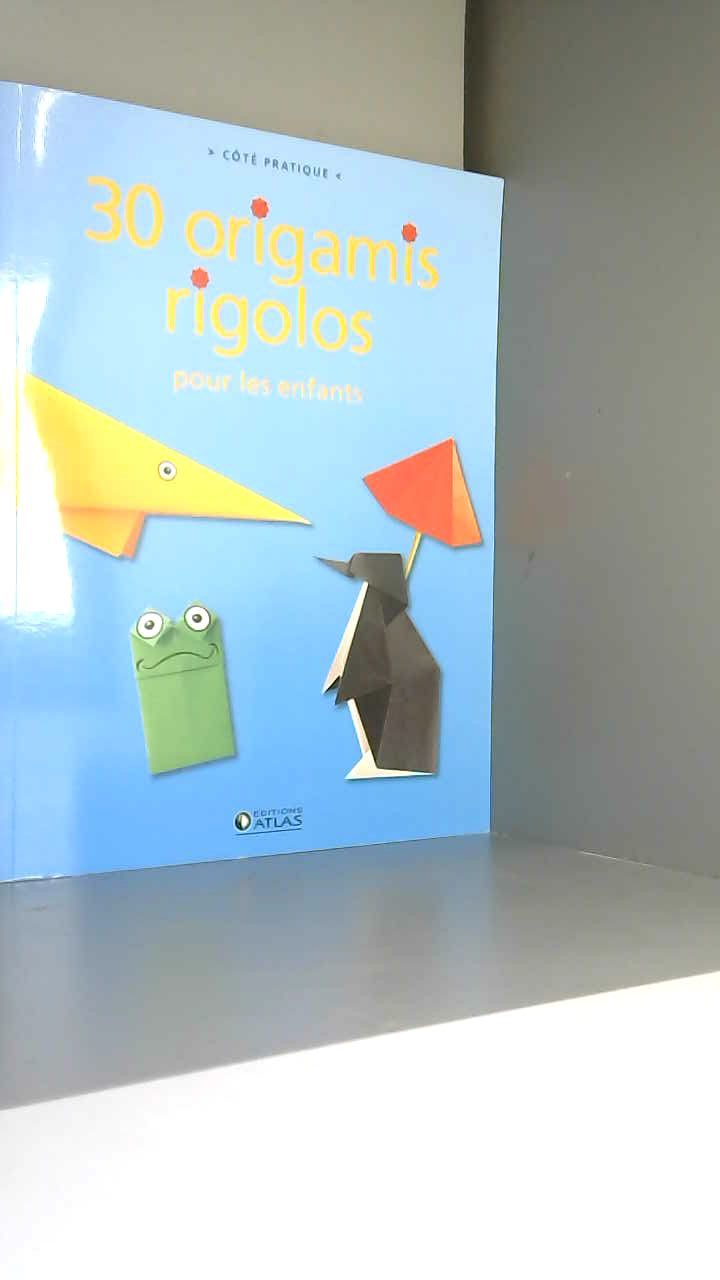book: (0, 56, 550, 925)
